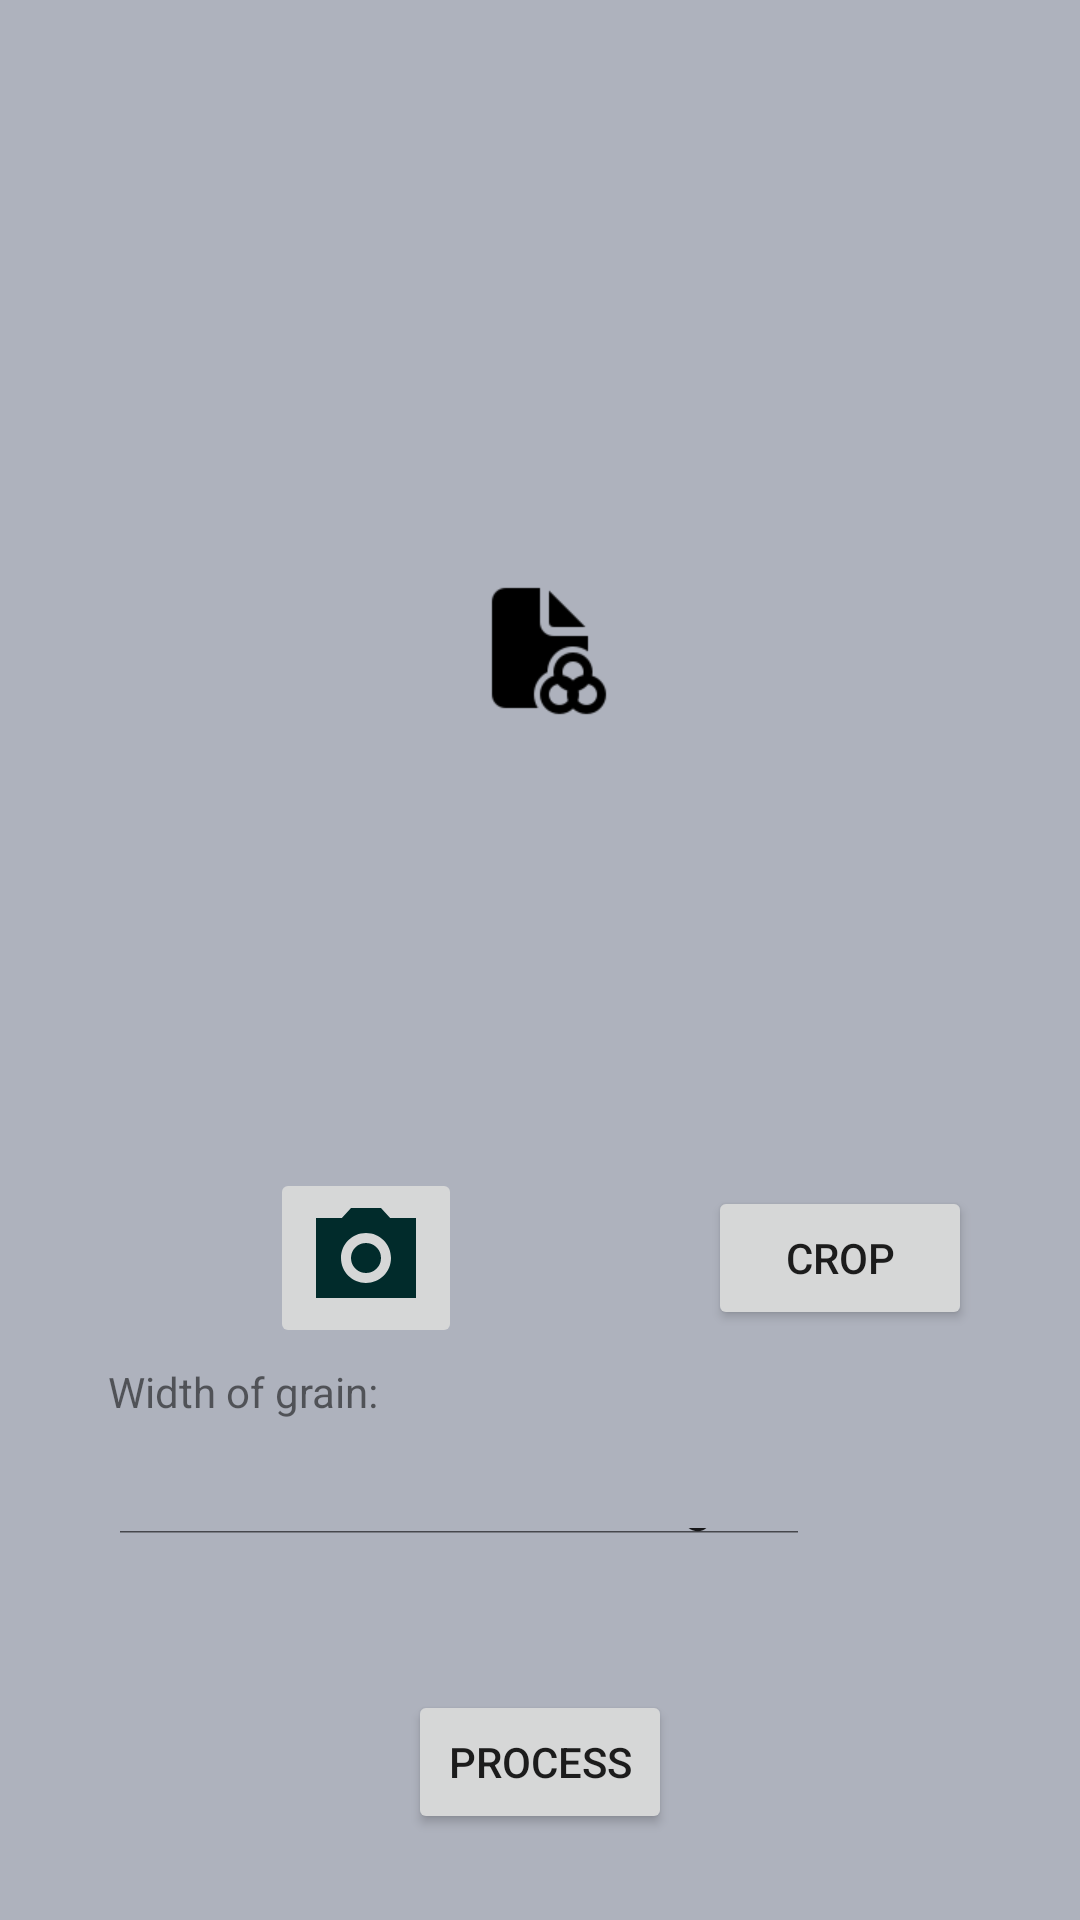

Icon click points for this 1080x1920 phone screenshot, format [x,y]:
camera: [366,1258]
col det: [549,651]
